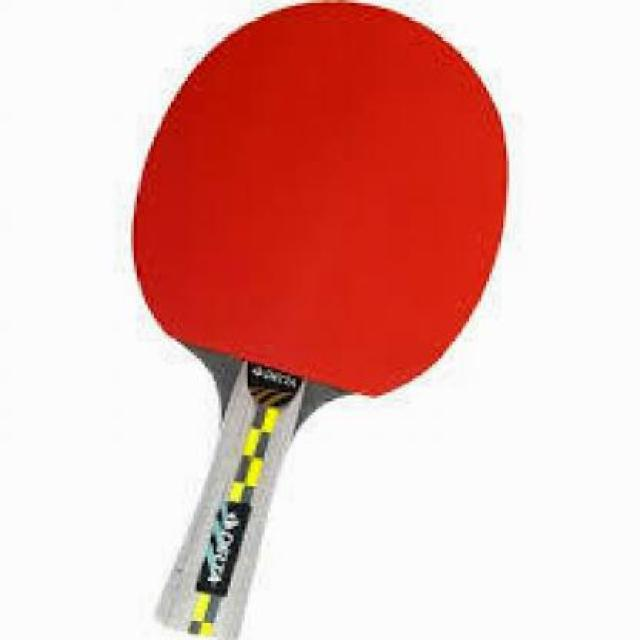table_tennis_racket: (132, 0, 516, 411)
